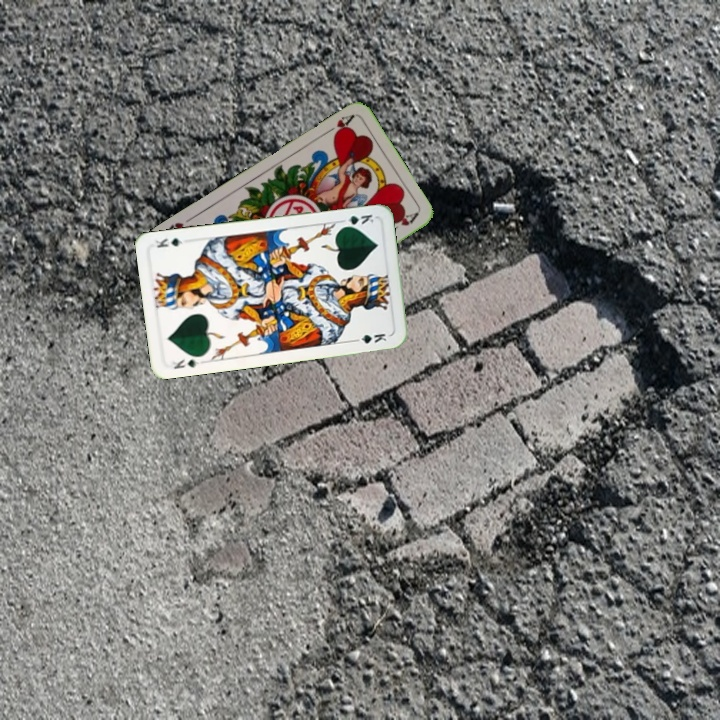GK: (337, 210, 376, 230), (169, 354, 202, 371)
HA: (319, 111, 356, 140)
